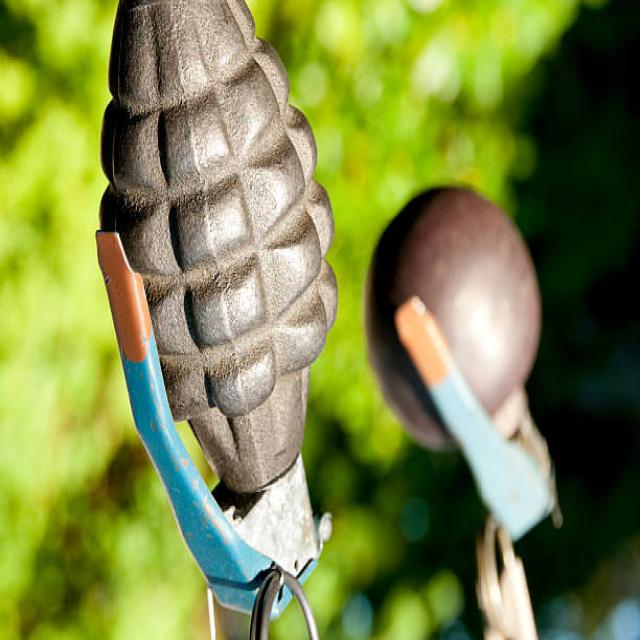grenade: (93, 1, 341, 640), (361, 183, 567, 544)
